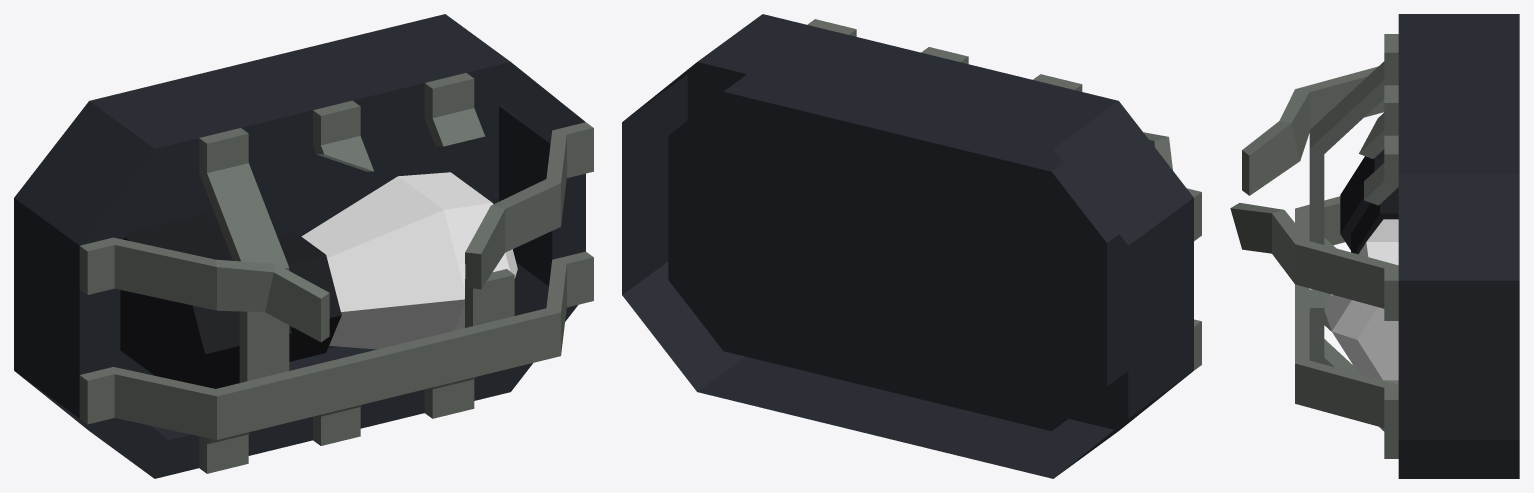
The model's file is SM_Light_C.fbx.
The picture shows the model from 3 angles, left to right: view 1: azimuth 30°, elevation 25°; view 2: azimuth 150°, elevation 25°; view 3: azimuth 270°, elevation 25°; orthographic projection. The views are drawn at different scales.
Visible parts, largest first — view 1: SM_Light_C; view 2: SM_Light_C; view 3: SM_Light_C.
Boxes of the visible parts, bbox=[...] form: SM_Light_C: bbox=[14, 14, 593, 478]; SM_Light_C: bbox=[622, 14, 1201, 478]; SM_Light_C: bbox=[1230, 14, 1519, 478].
Bounding box in the file's own units: 34.44 × 21.46 × 18.48.
